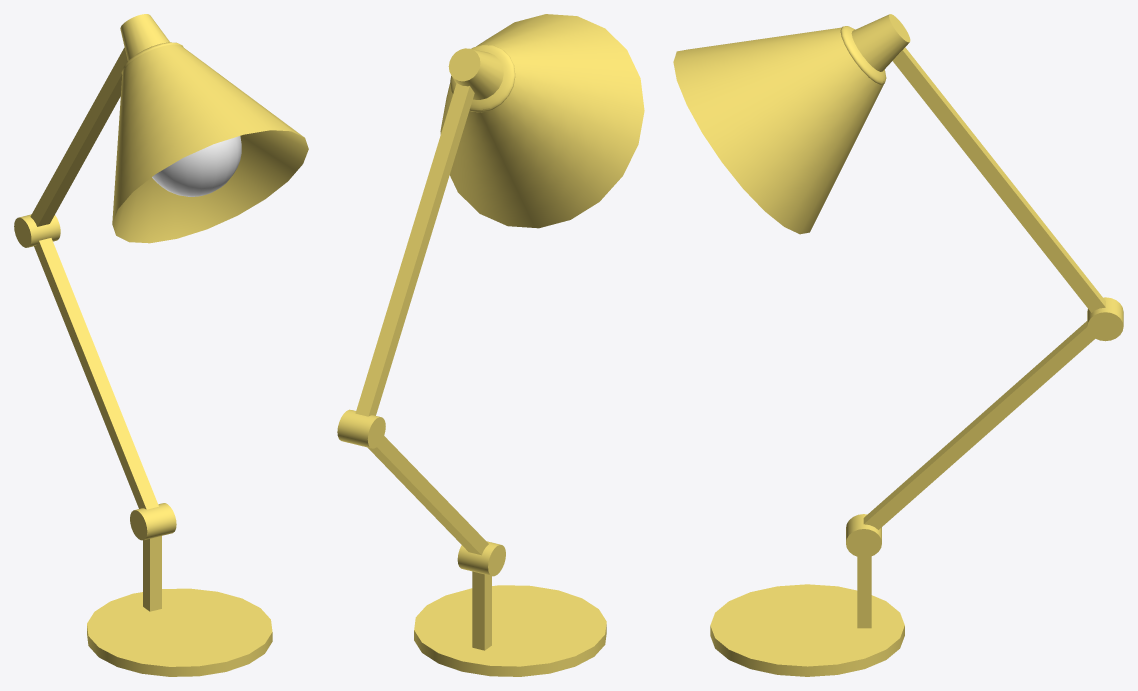
Rendered from lampara.obj.
3 views of the same model, side by side, from view 1: azimuth 30°, elevation 25°; view 2: azimuth 150°, elevation 25°; view 3: azimuth 270°, elevation 25° (orthographic). The views are drawn at different scales.
Visible parts, largest first — view 1: polySurface11; view 2: polySurface11; view 3: polySurface11.
Part boxes in pixels (<box>): polySurface11: <box>14,14,308,676</box>; polySurface11: <box>337,14,644,676</box>; polySurface11: <box>673,14,1123,676</box>.
Bounding box in the file's own units: 0.1829 × 0.5617 × 0.3697.
2 materials, 2 textured.
